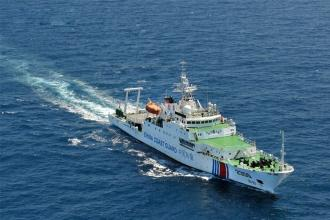warship: (109, 65, 295, 190)
